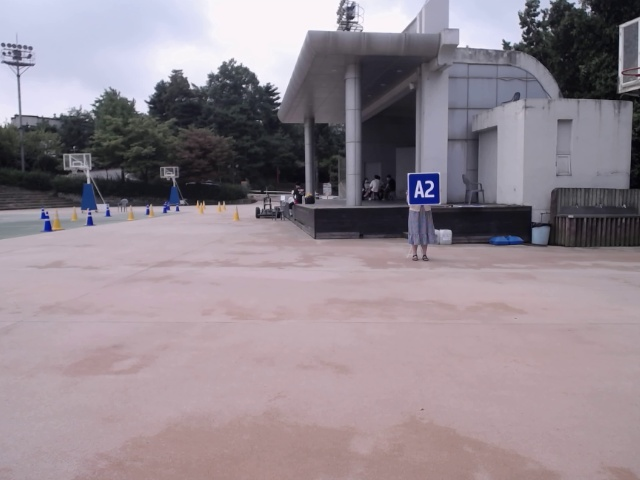delivery_a2: (408, 173, 440, 205)
